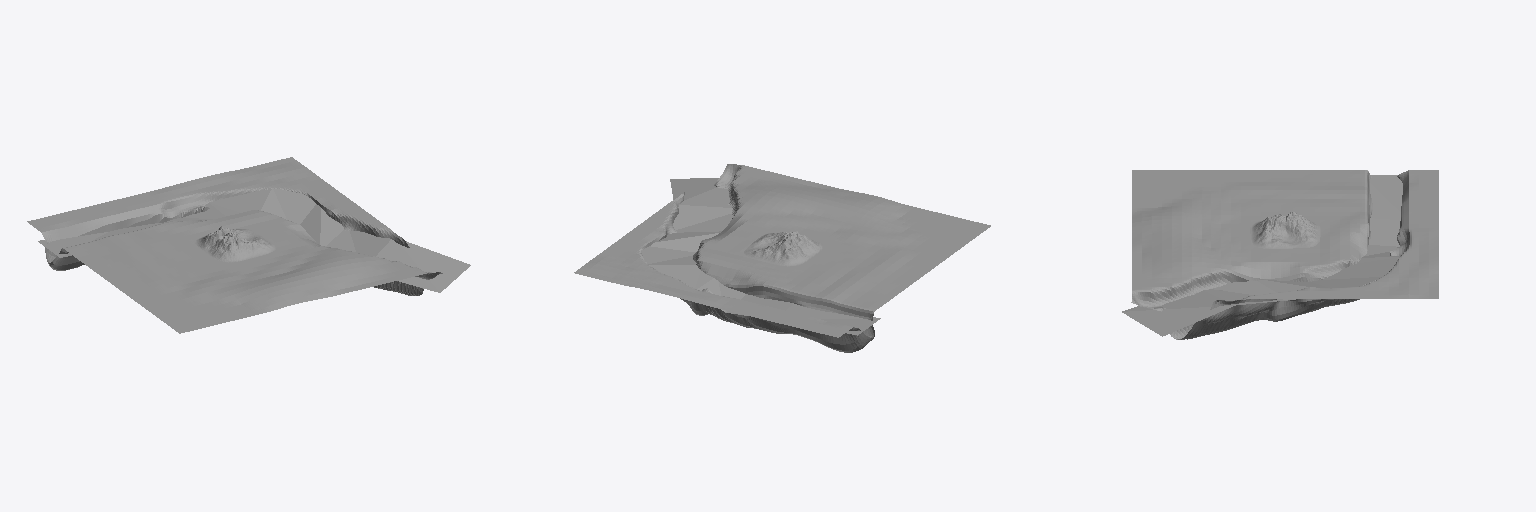
Rendered from mount.obj.
3 renders of one model, left to right at view 1: azimuth 30°, elevation 25°; view 2: azimuth 150°, elevation 25°; view 3: azimuth 270°, elevation 25°, orthographic.
Visible parts, largest first — view 1: Plane, Plane.001, Landscape; view 2: Plane, Plane.001, Landscape; view 3: Plane, Plane.001, Landscape.
Boxes of the visible parts, x1=… form: Plane: x1=27, y1=157, x2=442, y2=333; Plane.001: x1=38, y1=189, x2=470, y2=292; Landscape: x1=195, y1=226, x2=275, y2=263; Plane: x1=574, y1=164, x2=990, y2=352; Plane.001: x1=641, y1=178, x2=880, y2=335; Landscape: x1=744, y1=231, x2=825, y2=266; Plane: x1=1131, y1=170, x2=1438, y2=339; Plane.001: x1=1122, y1=175, x2=1402, y2=336; Landscape: x1=1250, y1=211, x2=1320, y2=248.
Bounding box in the file's own units: 7.54 × 1.45 × 6.62.